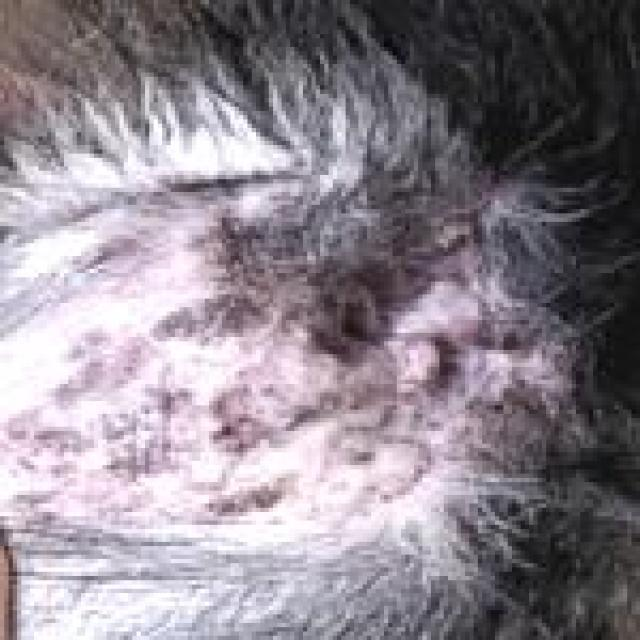fungal infection: (8, 327, 353, 515), (386, 318, 566, 419), (363, 441, 428, 492)
